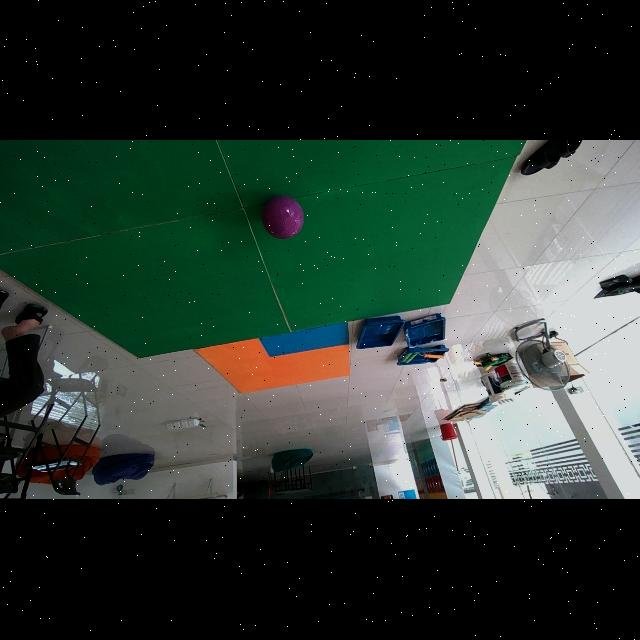P: (262, 196, 305, 240)
